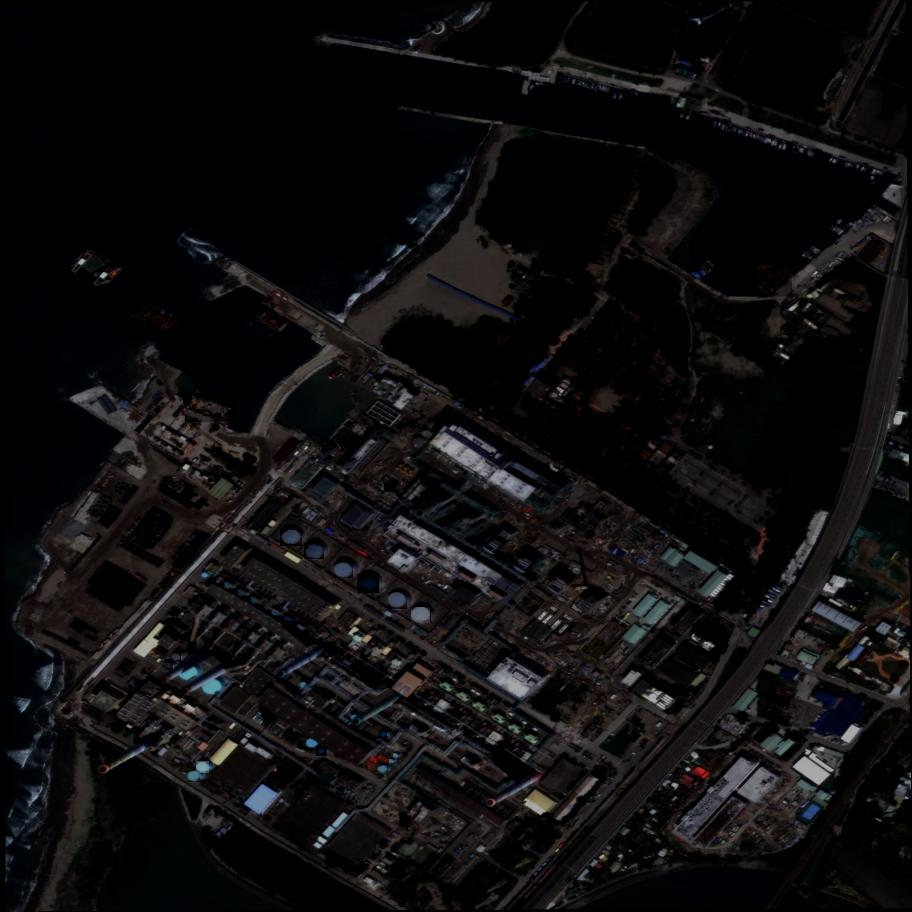ship: (734, 253, 781, 297), (186, 392, 237, 423), (757, 264, 792, 300)
storage-tank: (357, 574, 380, 594), (281, 528, 303, 547), (304, 543, 324, 560), (412, 608, 431, 624), (335, 562, 353, 578), (389, 593, 407, 608), (196, 761, 211, 774), (385, 482, 397, 493), (316, 746, 327, 757), (377, 765, 388, 775), (188, 772, 200, 781), (173, 653, 181, 662), (380, 732, 388, 739), (165, 662, 172, 669), (393, 753, 398, 758), (390, 759, 393, 763)
